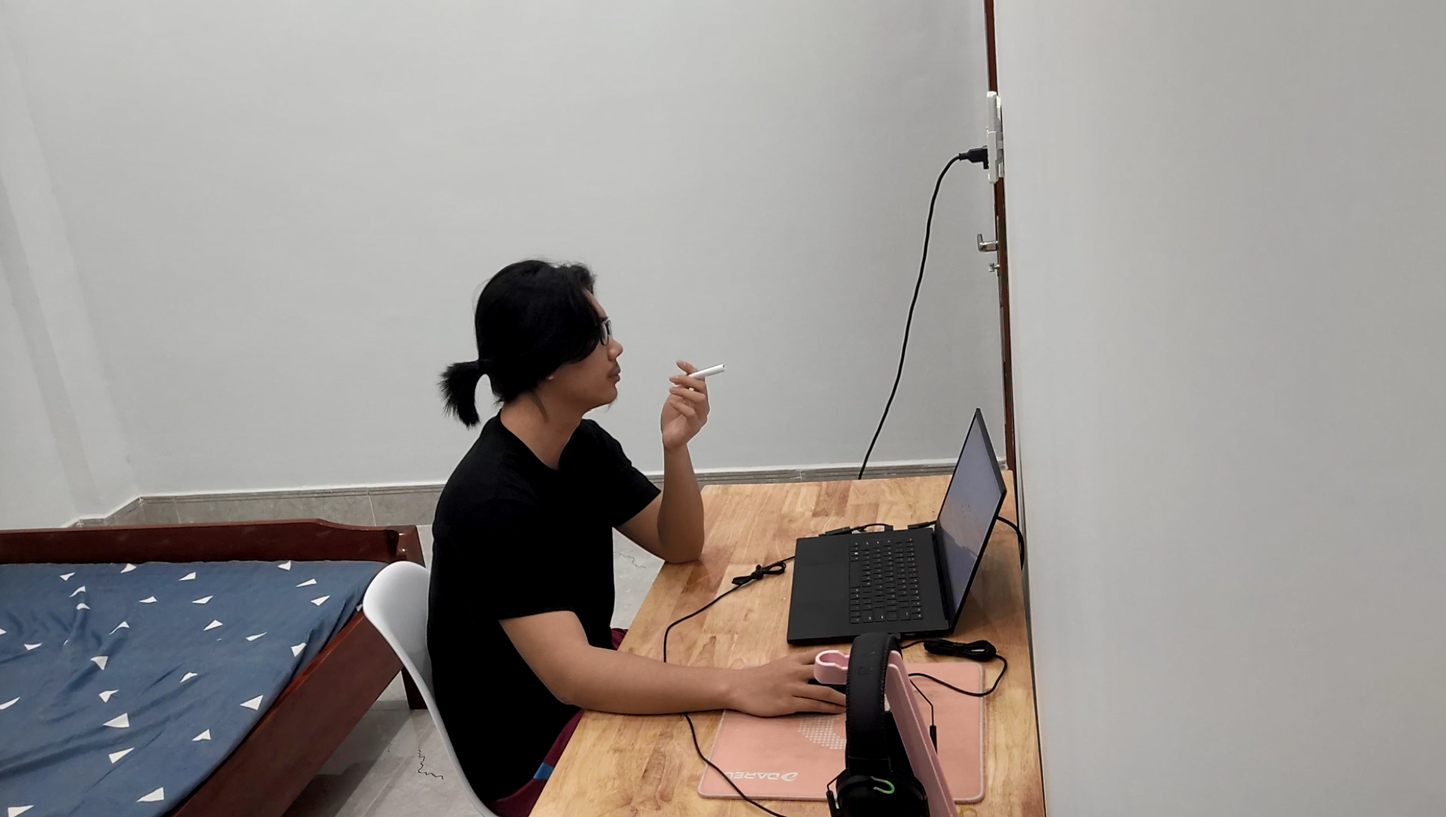cigarette: (658, 365, 727, 386)
person: (379, 219, 710, 817)
